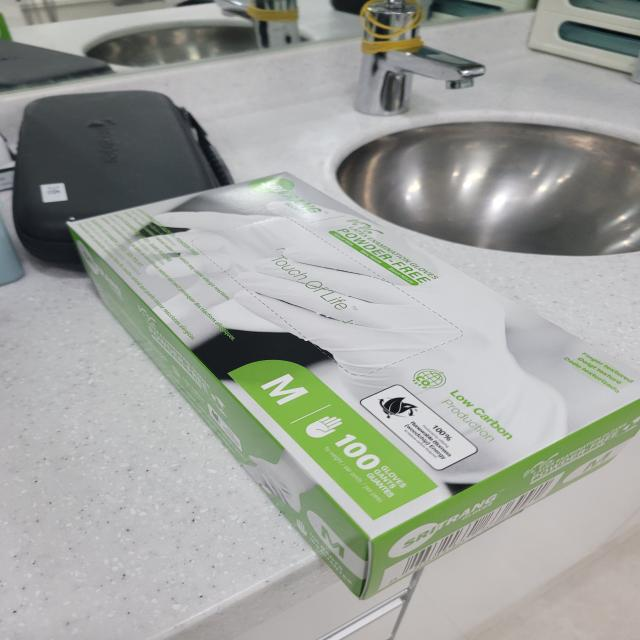glove: (49, 165, 640, 613)
